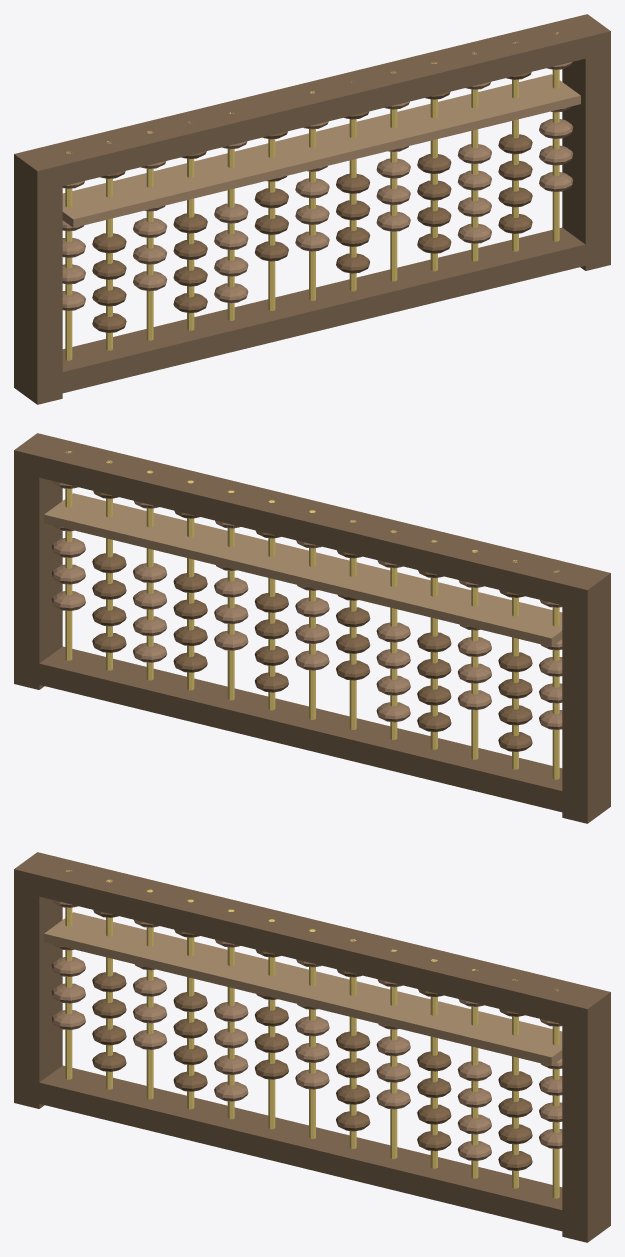
The model's file is abacus.glb.
3 views of the same model, one above another, from view 1: azimuth 30°, elevation 25°; view 2: azimuth 150°, elevation 25°; view 3: azimuth 330°, elevation 25° (orthographic).
Parts seen in each view (by area): view 1: abacus; view 2: abacus; view 3: abacus.
Part boxes in pixels (<box>): abacus: <box>14,14,610,404</box>; abacus: <box>14,433,610,823</box>; abacus: <box>14,852,610,1242</box>.
Bounding box in the file's own units: 0.565 × 0.22 × 0.05.
